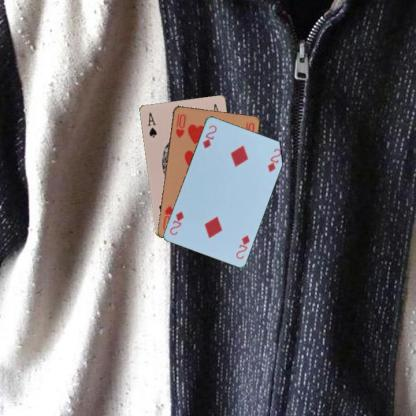10h: (173, 110, 187, 139)
2d: (200, 122, 218, 150), (233, 232, 251, 260)
As: (145, 110, 158, 138)
